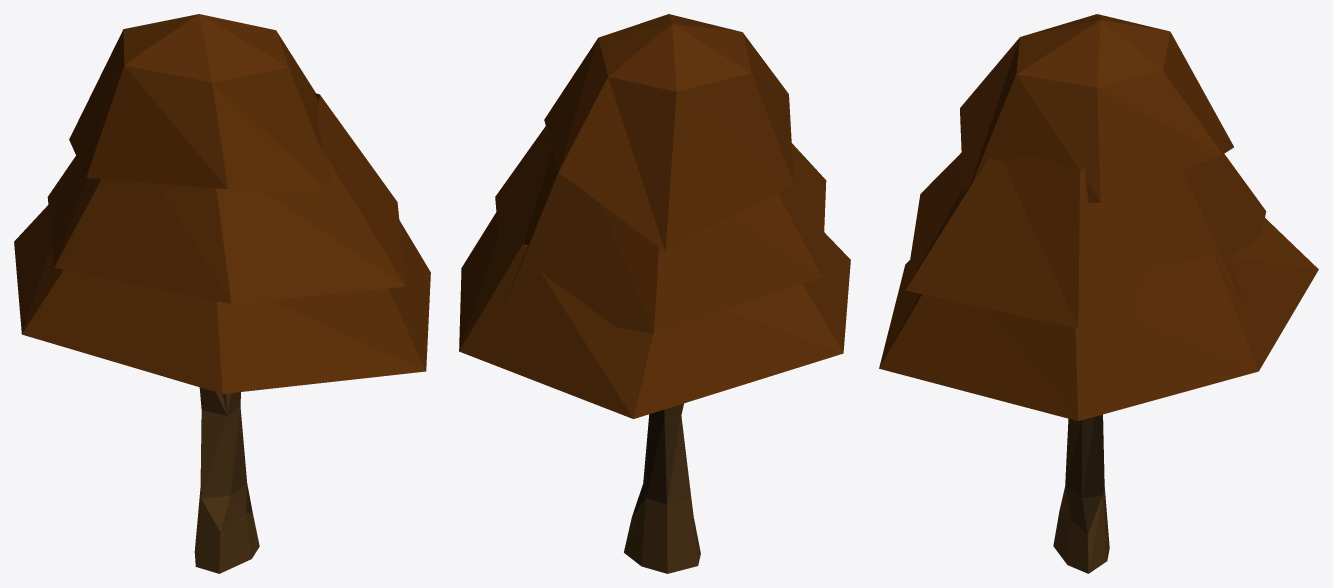
File: maple.obj
The picture shows the model from 3 angles, left to right: view 1: azimuth 30°, elevation 25°; view 2: azimuth 150°, elevation 25°; view 3: azimuth 270°, elevation 25°; orthographic projection. The views are drawn at different scales.
Parts seen in each view (by area): view 1: Object Maple tree 2026-10-08_17-11-07; view 2: Object Maple tree 2026-10-08_17-11-07; view 3: Object Maple tree 2026-10-08_17-11-07.
Boxes of the visible parts, x1,y1,x2,y2 form: Object Maple tree 2026-10-08_17-11-07: (14,14,430,573); Object Maple tree 2026-10-08_17-11-07: (459,14,850,573); Object Maple tree 2026-10-08_17-11-07: (879,14,1318,573).
Size of the model in its own units: 236 by 310 by 234.
